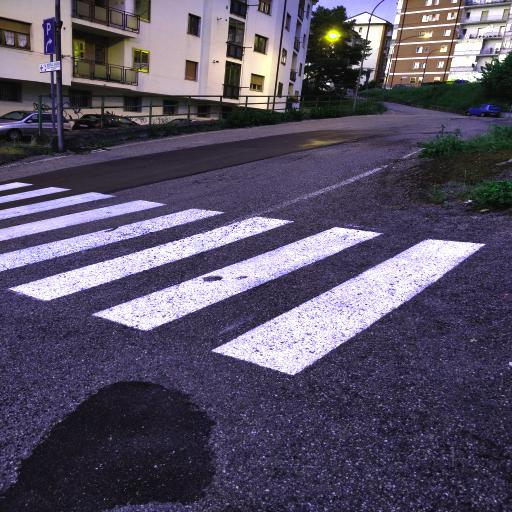crosswalk: (84, 187, 492, 407)
